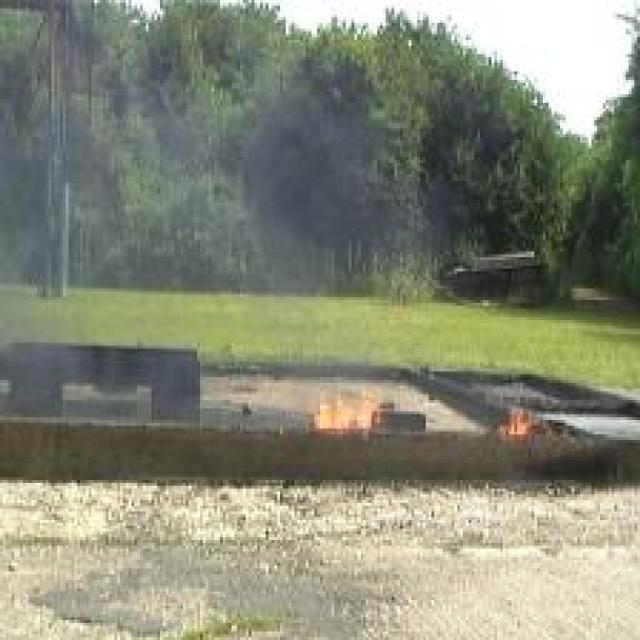Fire: (316, 394, 373, 429), (498, 406, 533, 434)
